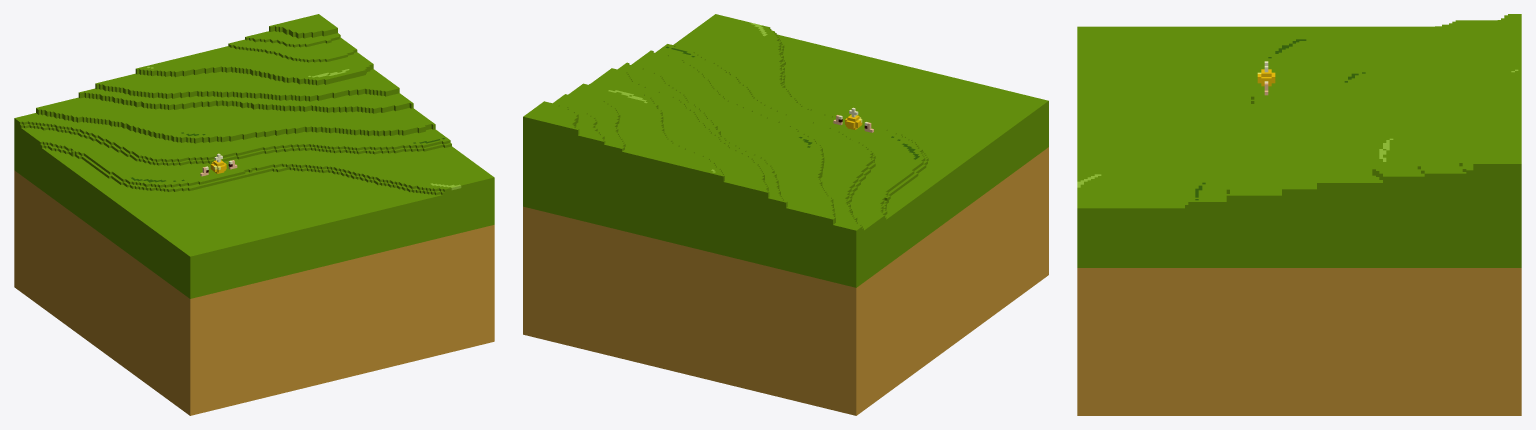
3 renders of one model, left to right at view 1: azimuth 30°, elevation 25°; view 2: azimuth 150°, elevation 25°; view 3: azimuth 270°, elevation 25°, orthographic. The views are drawn at different scales.
Parts seen in each view (by area): view 1: 7B; view 2: 7B; view 3: 7B.
Part boxes in pixels (bbox=[...]): 7B: bbox=[14, 14, 494, 415]; 7B: bbox=[523, 14, 1048, 415]; 7B: bbox=[1077, 14, 1521, 415].
Size of the model in its own units: 12.8 by 8 by 12.8.
1 material, 1 textured.
